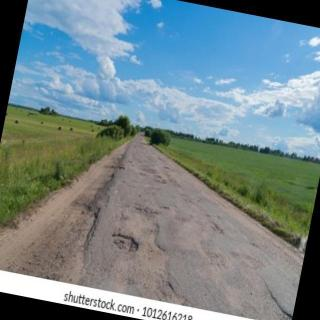pothole: (112, 233, 140, 252)
